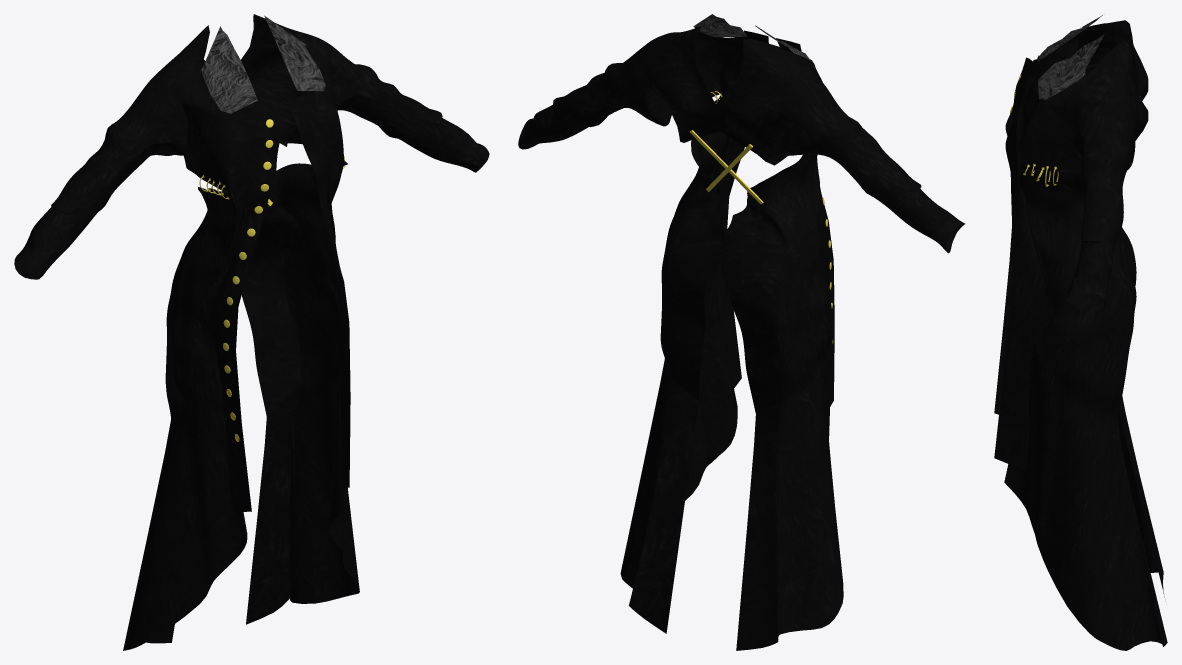
Rendered from coat2.glb.
3 renders of one model, left to right at view 1: azimuth 30°, elevation 25°; view 2: azimuth 150°, elevation 25°; view 3: azimuth 270°, elevation 25°, orthographic. The views are drawn at different scales.
Visible parts, largest first — view 1: pCylinder1; view 2: pCylinder1; view 3: pCylinder1.
Boxes of the visible parts, x1,y1,x2,y2 form: pCylinder1: [14, 14, 489, 650]; pCylinder1: [518, 14, 965, 650]; pCylinder1: [994, 15, 1167, 650].
Bounding box in the file's own units: 4.82 × 6.39 × 1.67.
5 materials, 1 textured.
